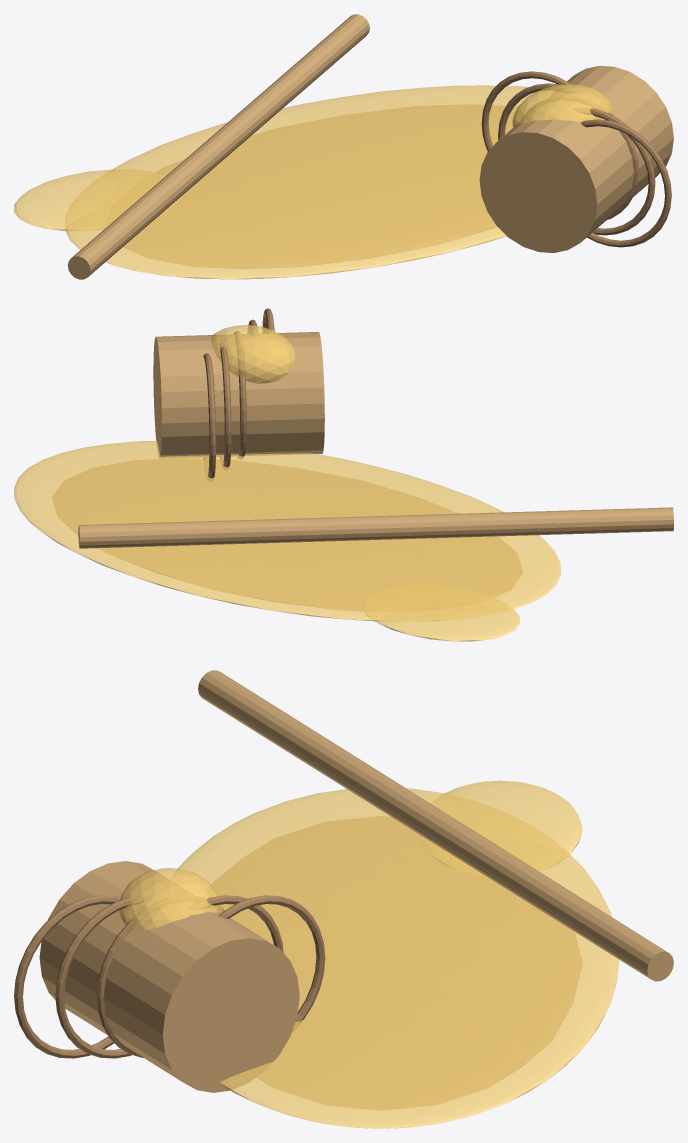
Rendered from sugar_source_honey_dipper_v1.glb.
3 renders of one model, top to bottom at view 1: azimuth 30°, elevation 25°; view 2: azimuth 150°, elevation 25°; view 3: azimuth 270°, elevation 25°, orthographic. The views are drawn at different scales.
Parts seen in each view (by area): view 1: main_honey_puddle, honey_shadow_layer, honey_dipper_head, wooden_honey_dipper_handle, small_honey_drip, honey_blob_on_dipper, dipper_groove_4, dipper_groove_3, dipper_groove_0, dipper_groove_2, dipper_groove_1; view 2: main_honey_puddle, honey_shadow_layer, honey_dipper_head, wooden_honey_dipper_handle, small_honey_drip, honey_blob_on_dipper, dipper_groove_0, dipper_groove_1, dipper_groove_2; view 3: main_honey_puddle, honey_shadow_layer, honey_dipper_head, wooden_honey_dipper_handle, small_honey_drip, honey_blob_on_dipper, dipper_groove_4, dipper_groove_3, dipper_groove_0, dipper_groove_2, dipper_groove_1.
Part boxes in pixels (<box>): main_honey_puddle: <box>65,85,554,279</box>; honey_shadow_layer: <box>123,105,517,268</box>; honey_dipper_head: <box>479,65,673,252</box>; wooden_honey_dipper_handle: <box>67,14,369,279</box>; small_honey_drip: <box>14,169,182,230</box>; honey_blob_on_dipper: <box>512,84,614,127</box>; dipper_groove_4: <box>581,119,671,247</box>; dipper_groove_3: <box>573,107,655,235</box>; dipper_groove_0: <box>481,71,572,151</box>; dipper_groove_2: <box>522,95,638,219</box>; dipper_groove_1: <box>498,83,580,140</box>; main_honey_puddle: <box>14,441,560,621</box>; honey_shadow_layer: <box>52,459,522,610</box>; honey_dipper_head: <box>153,332,324,458</box>; wooden_honey_dipper_handle: <box>78,507,673,548</box>; small_honey_drip: <box>362,584,519,641</box>; honey_blob_on_dipper: <box>210,325,294,383</box>; dipper_groove_0: <box>203,353,216,481</box>; dipper_groove_1: <box>220,343,231,469</box>; dipper_groove_2: <box>234,331,246,459</box>; main_honey_puddle: <box>170,788,619,1128</box>; honey_shadow_layer: <box>211,816,582,1110</box>; honey_dipper_head: <box>39,861,299,1092</box>; wooden_honey_dipper_handle: <box>198,670,673,981</box>; small_honey_drip: <box>420,780,582,876</box>; honey_blob_on_dipper: <box>119,868,223,930</box>; dipper_groove_4: <box>14,895,120,1058</box>; dipper_groove_3: <box>55,895,151,1058</box>; dipper_groove_0: <box>219,895,325,1032</box>; dipper_groove_2: <box>96,895,224,1057</box>; dipper_groove_1: <box>187,895,283,952</box>.
Bounding box in the file's own units: 1.99 × 0.41 × 1.44.
